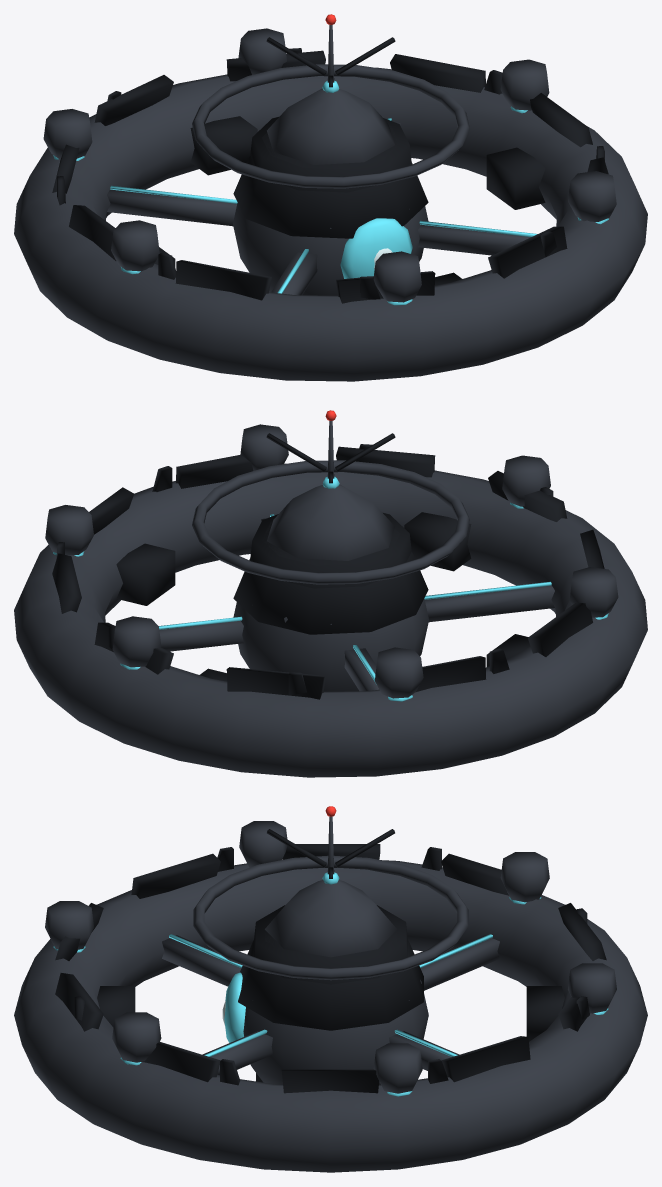
File: nexus_drone.obj
The picture shows the model from 3 angles, top to bottom: view 1: azimuth 30°, elevation 25°; view 2: azimuth 150°, elevation 25°; view 3: azimuth 270°, elevation 25°; orthographic projection.
Visible parts, largest first — view 1: CarrierRing, CoreShoulder, UpperRing, CoreTop, CoreSphere, CoreHousing, Spoke_1, Dock_0, CoreEye, RingPlate_6, Dock_1, Spoke_3 (+17 smaller); view 2: CarrierRing, CoreShoulder, CoreSphere, UpperRing, CoreTop, CoreHousing, Spoke_2, Dock_0, Dock_3, Thruster_2, RingPlate_3, Thruster_1 (+17 smaller); view 3: CarrierRing, CoreShoulder, UpperRing, CoreTop, CoreSphere, CoreHousing, RingPlate_0, RingPlate_1, RingPlate_6, Thruster_0, Thruster_2, Thruster_5 (+17 smaller).
Boxes of the visible parts, bbox=[...] form: CarrierRing: bbox=[14, 67, 647, 381]; CoreShoulder: bbox=[233, 125, 428, 238]; UpperRing: bbox=[192, 64, 469, 188]; CoreTop: bbox=[267, 88, 394, 164]; CoreSphere: bbox=[233, 203, 428, 295]; CoreHousing: bbox=[250, 117, 411, 192]; Spoke_1: bbox=[107, 189, 236, 226]; Dock_0: bbox=[486, 147, 545, 209]; CoreEye: bbox=[340, 218, 412, 278]; RingPlate_6: bbox=[175, 260, 271, 300]; Dock_1: bbox=[190, 116, 257, 175]; Spoke_3: bbox=[418, 224, 530, 255]; CarrierRing: bbox=[14, 463, 647, 777]; CoreShoulder: bbox=[233, 521, 428, 634]; CoreSphere: bbox=[233, 599, 428, 691]; UpperRing: bbox=[192, 460, 469, 584]; CoreTop: bbox=[267, 484, 394, 560]; CoreHousing: bbox=[250, 513, 411, 588]; Spoke_2: bbox=[425, 585, 554, 622]; Dock_0: bbox=[116, 543, 175, 605]; Dock_3: bbox=[404, 512, 471, 571]; Thruster_2: bbox=[375, 647, 423, 698]; RingPlate_3: bbox=[226, 667, 325, 699]; Thruster_1: bbox=[112, 616, 161, 667]; CarrierRing: bbox=[14, 860, 647, 1172]; CoreShoulder: bbox=[238, 933, 423, 1030]; UpperRing: bbox=[193, 855, 468, 980]; CoreTop: bbox=[265, 880, 396, 957]; CoreSphere: bbox=[243, 980, 428, 1084]; CoreHousing: bbox=[254, 905, 407, 1082]; RingPlate_0: bbox=[281, 1069, 379, 1093]; RingPlate_1: bbox=[441, 1036, 530, 1082]; RingPlate_6: bbox=[131, 853, 220, 898]; Thruster_0: bbox=[373, 1043, 422, 1093]; Thruster_2: bbox=[500, 852, 549, 902]; Thruster_5: bbox=[112, 1012, 161, 1062].
Size of the model in its own units: 10.04 by 5.63 by 10.04.
